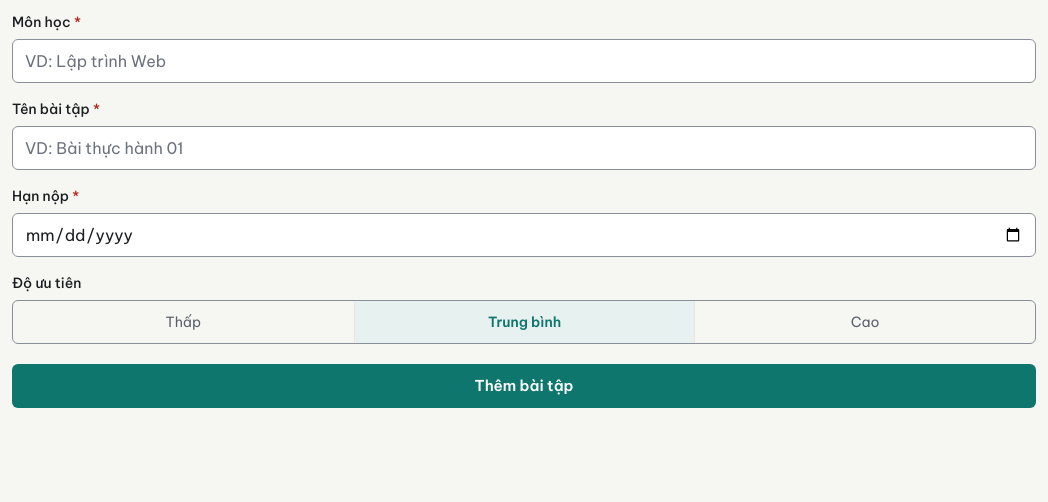
Test: AssignmentForm › validate: để trống thì báo lỗi từng ô, đưa focus về ô lỗi đầu tiên, không thêm bài
Click the button "Thêm bài tập" at (524, 386), box 12,364 -> 1036,408
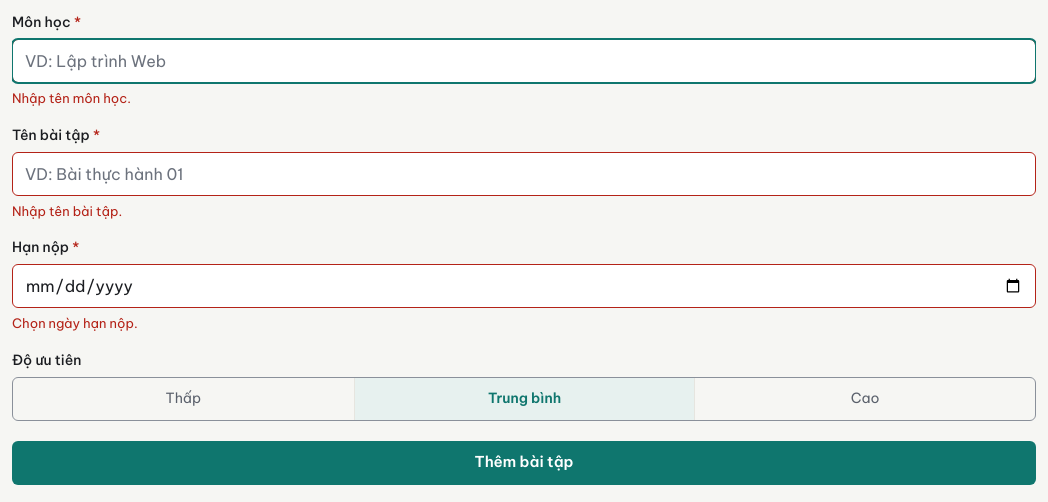
Now the text "Nhập tên môn học." is shown, box 12,90 -> 131,106
Now the text "Nhập tên bài tập." is shown, box 12,202 -> 122,218
Now the text "Chọn ngày hạn nộp." is shown, box 12,315 -> 138,331
